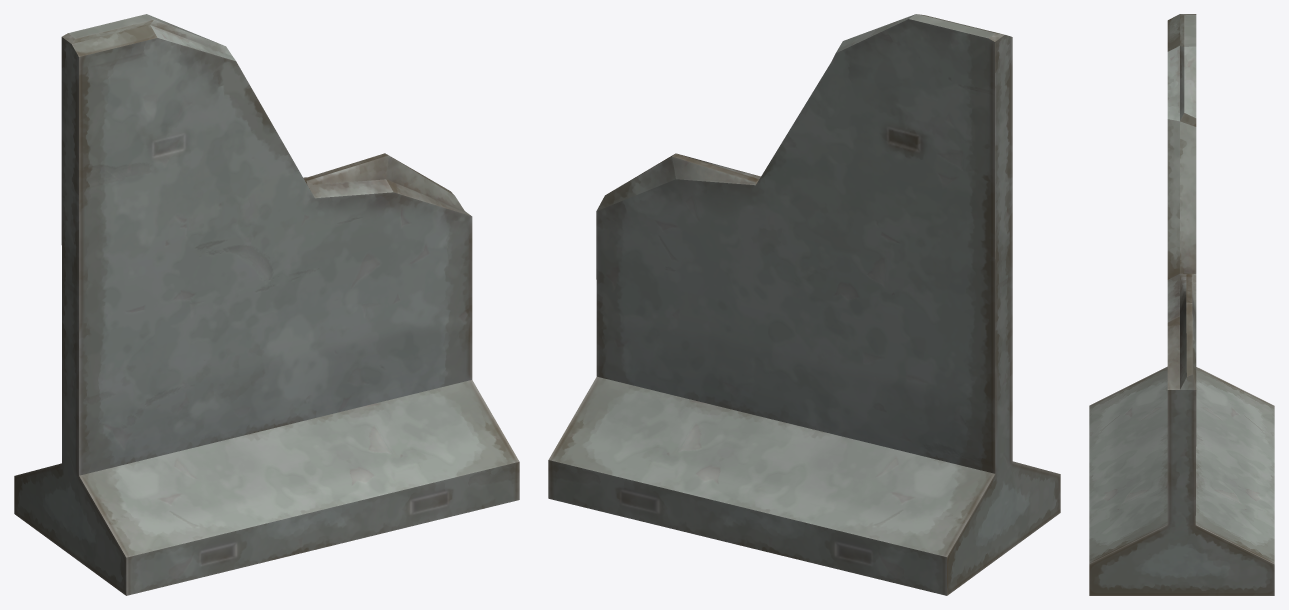
File: BarrierConcrete02_2.FBX
3 views of the same model, side by side, from view 1: azimuth 30°, elevation 25°; view 2: azimuth 150°, elevation 25°; view 3: azimuth 270°, elevation 25° (orthographic). The views are drawn at different scales.
Parts seen in each view (by area): view 1: BarrierConcrete02_2; view 2: BarrierConcrete02_2; view 3: BarrierConcrete02_2.
Boxes of the visible parts, bbox=[...] form: BarrierConcrete02_2: bbox=[14, 14, 519, 595]; BarrierConcrete02_2: bbox=[548, 14, 1060, 595]; BarrierConcrete02_2: bbox=[1089, 14, 1274, 595].
Size of what is drawn, in the model's own units: 2 by 2.5 by 0.9855.
